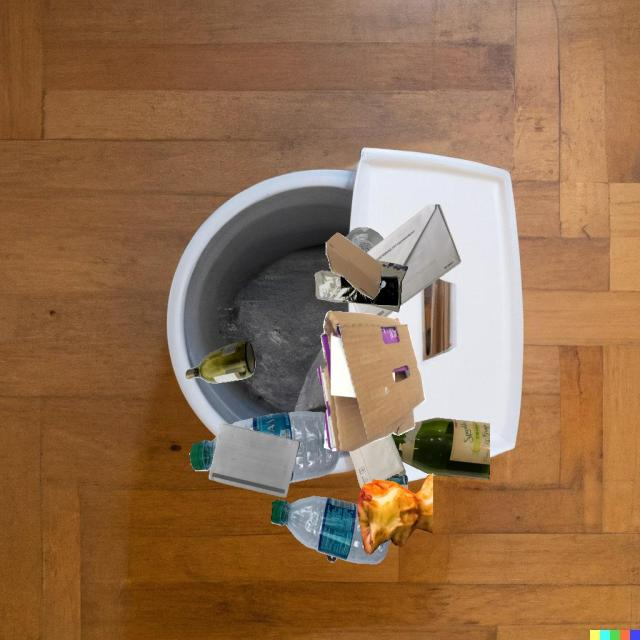biowaste: (357, 473, 433, 554)
cardboard: (318, 311, 425, 451), (326, 232, 386, 300), (370, 260, 408, 312)
glass: (391, 418, 490, 480), (186, 340, 255, 384)
paper: (367, 204, 461, 306), (209, 423, 300, 497), (349, 434, 404, 489)
plastic: (271, 496, 390, 564), (231, 411, 340, 483), (314, 270, 399, 306), (345, 227, 384, 253), (384, 467, 408, 490), (327, 555, 337, 562)
